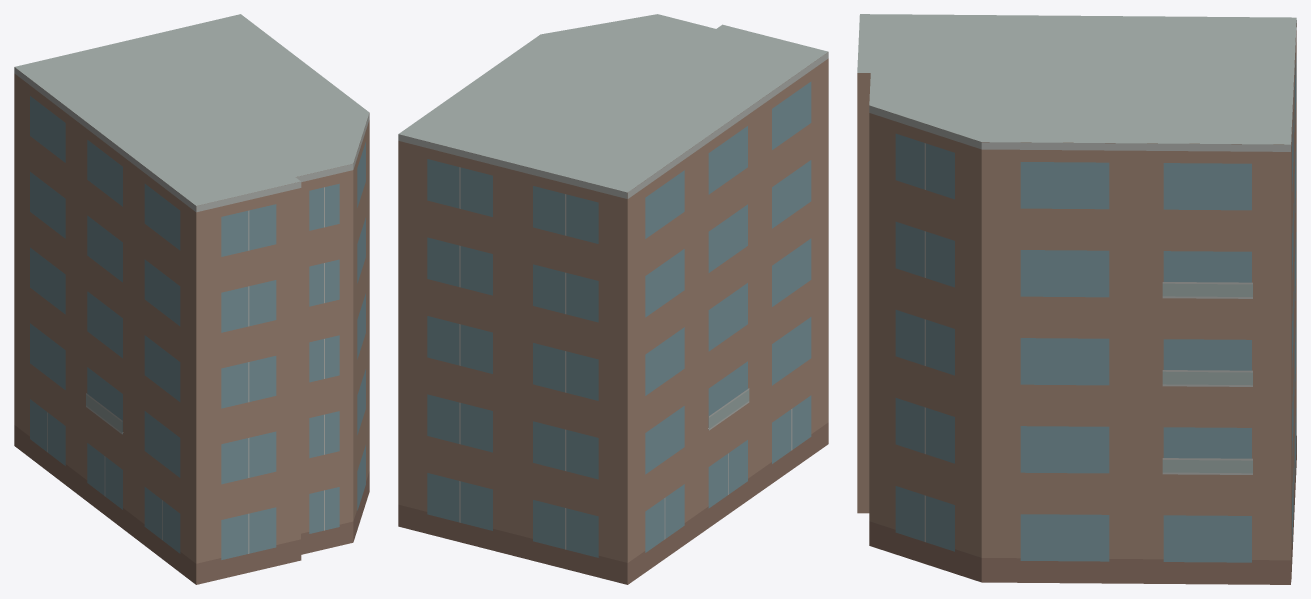
File: survey-upis-32738352.glb
The picture shows the model from 3 angles, left to right: view 1: azimuth 30°, elevation 25°; view 2: azimuth 150°, elevation 25°; view 3: azimuth 270°, elevation 25°; orthographic projection. The views are drawn at different scales.
Parts seen in each view (by area): view 1: survey-upis-32738352.tmp; view 2: survey-upis-32738352.tmp; view 3: survey-upis-32738352.tmp.
Boxes of the visible parts, box(x1,y1,x2,y2) form: survey-upis-32738352.tmp: box(14, 14, 369, 584); survey-upis-32738352.tmp: box(398, 14, 828, 584); survey-upis-32738352.tmp: box(857, 14, 1296, 584).
Bounding box in the file's own units: 9.17 × 14.4 × 13.04.
